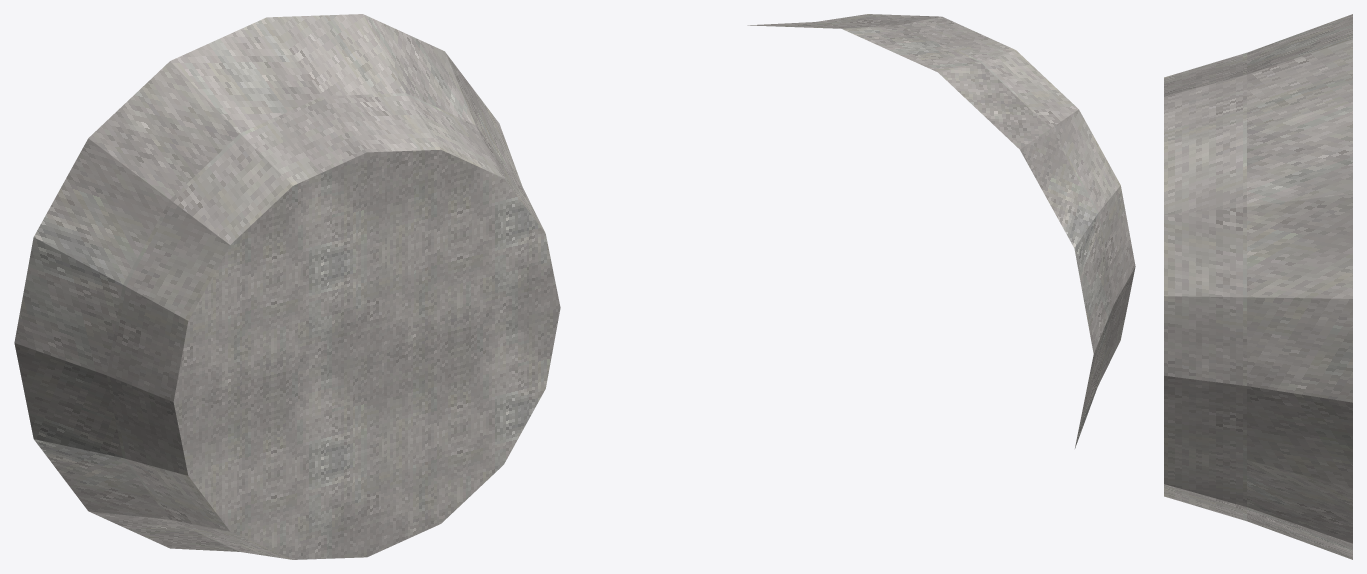
Rendered from jc-sj-861-geode.glb.
3 renders of one model, left to right at view 1: azimuth 30°, elevation 25°; view 2: azimuth 150°, elevation 25°; view 3: azimuth 270°, elevation 25°, orthographic. The views are drawn at different scales.
Parts seen in each view (by area): view 1: Node; view 2: Node; view 3: Node.
Boxes of the visible parts, x1=… form: Node: x1=14, y1=14, x2=560, y2=559; Node: x1=747, y1=14, x2=1135, y2=448; Node: x1=1164, y1=14, x2=1352, y2=559.
Size of the model in its own units: 0.3748 by 0.3748 by 0.1294.
1 material, 1 textured.
